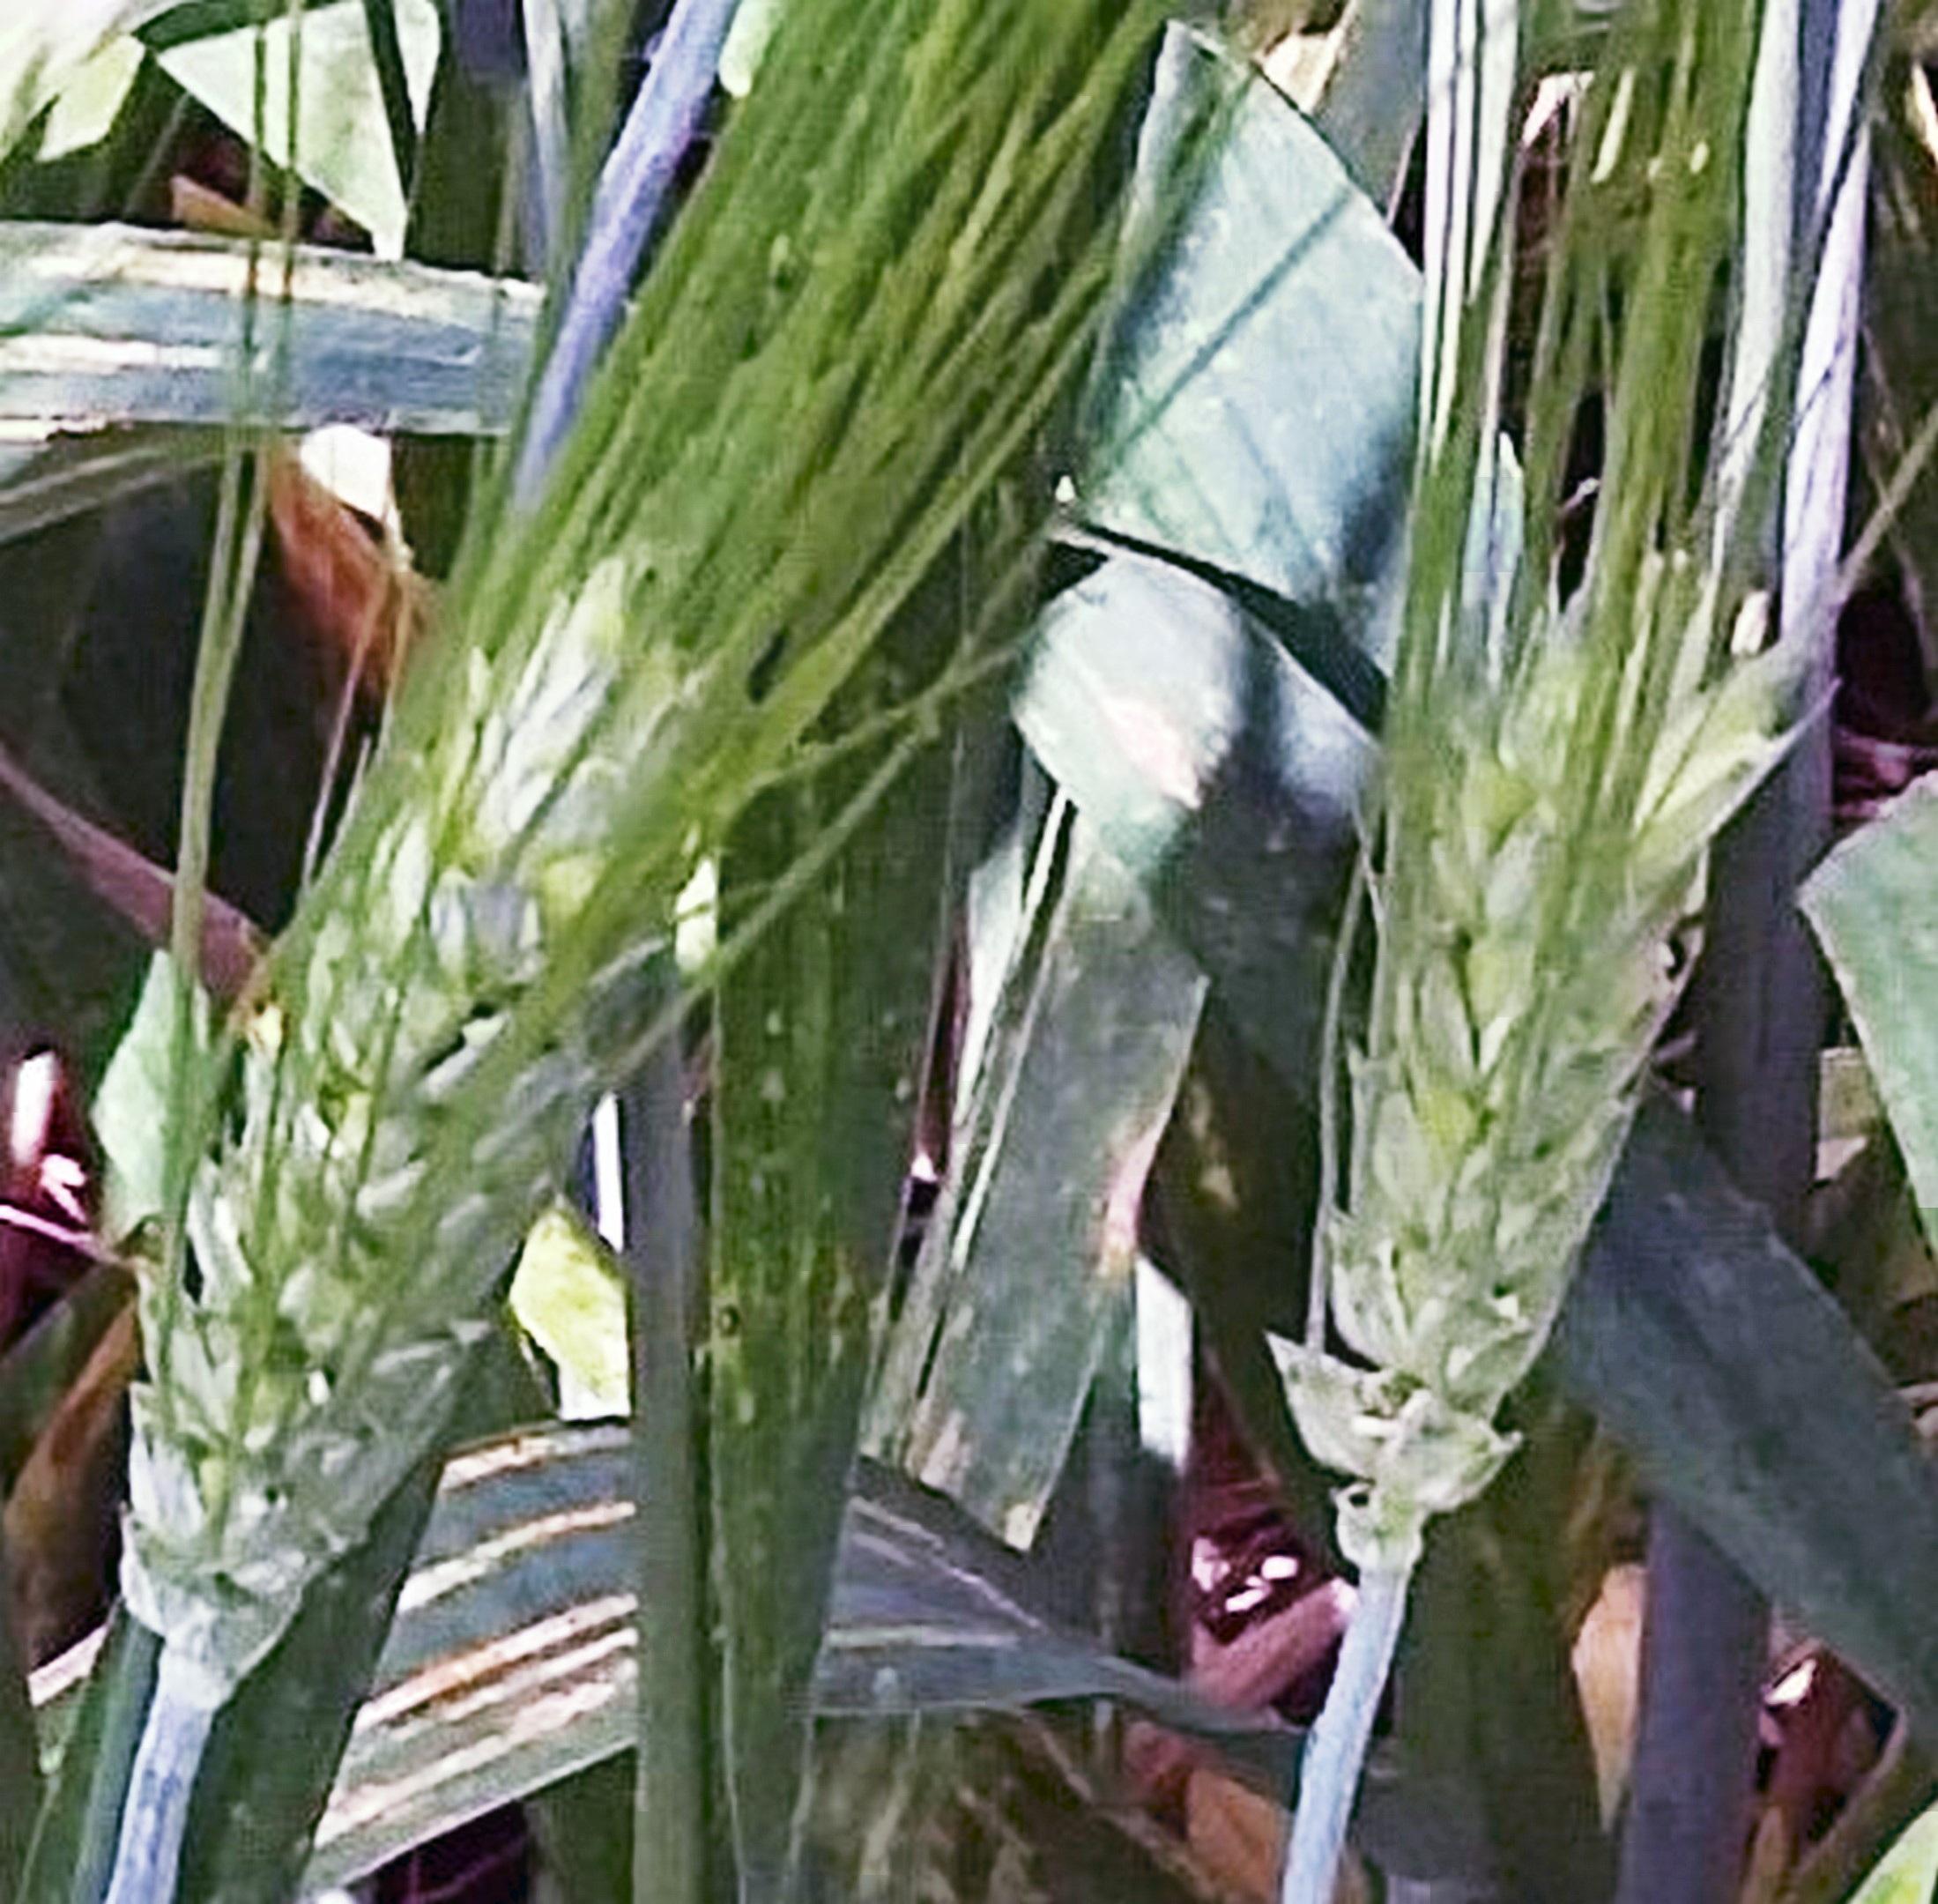Healthy Wheat: (105, 567, 817, 1665), (1271, 556, 1771, 1510)
